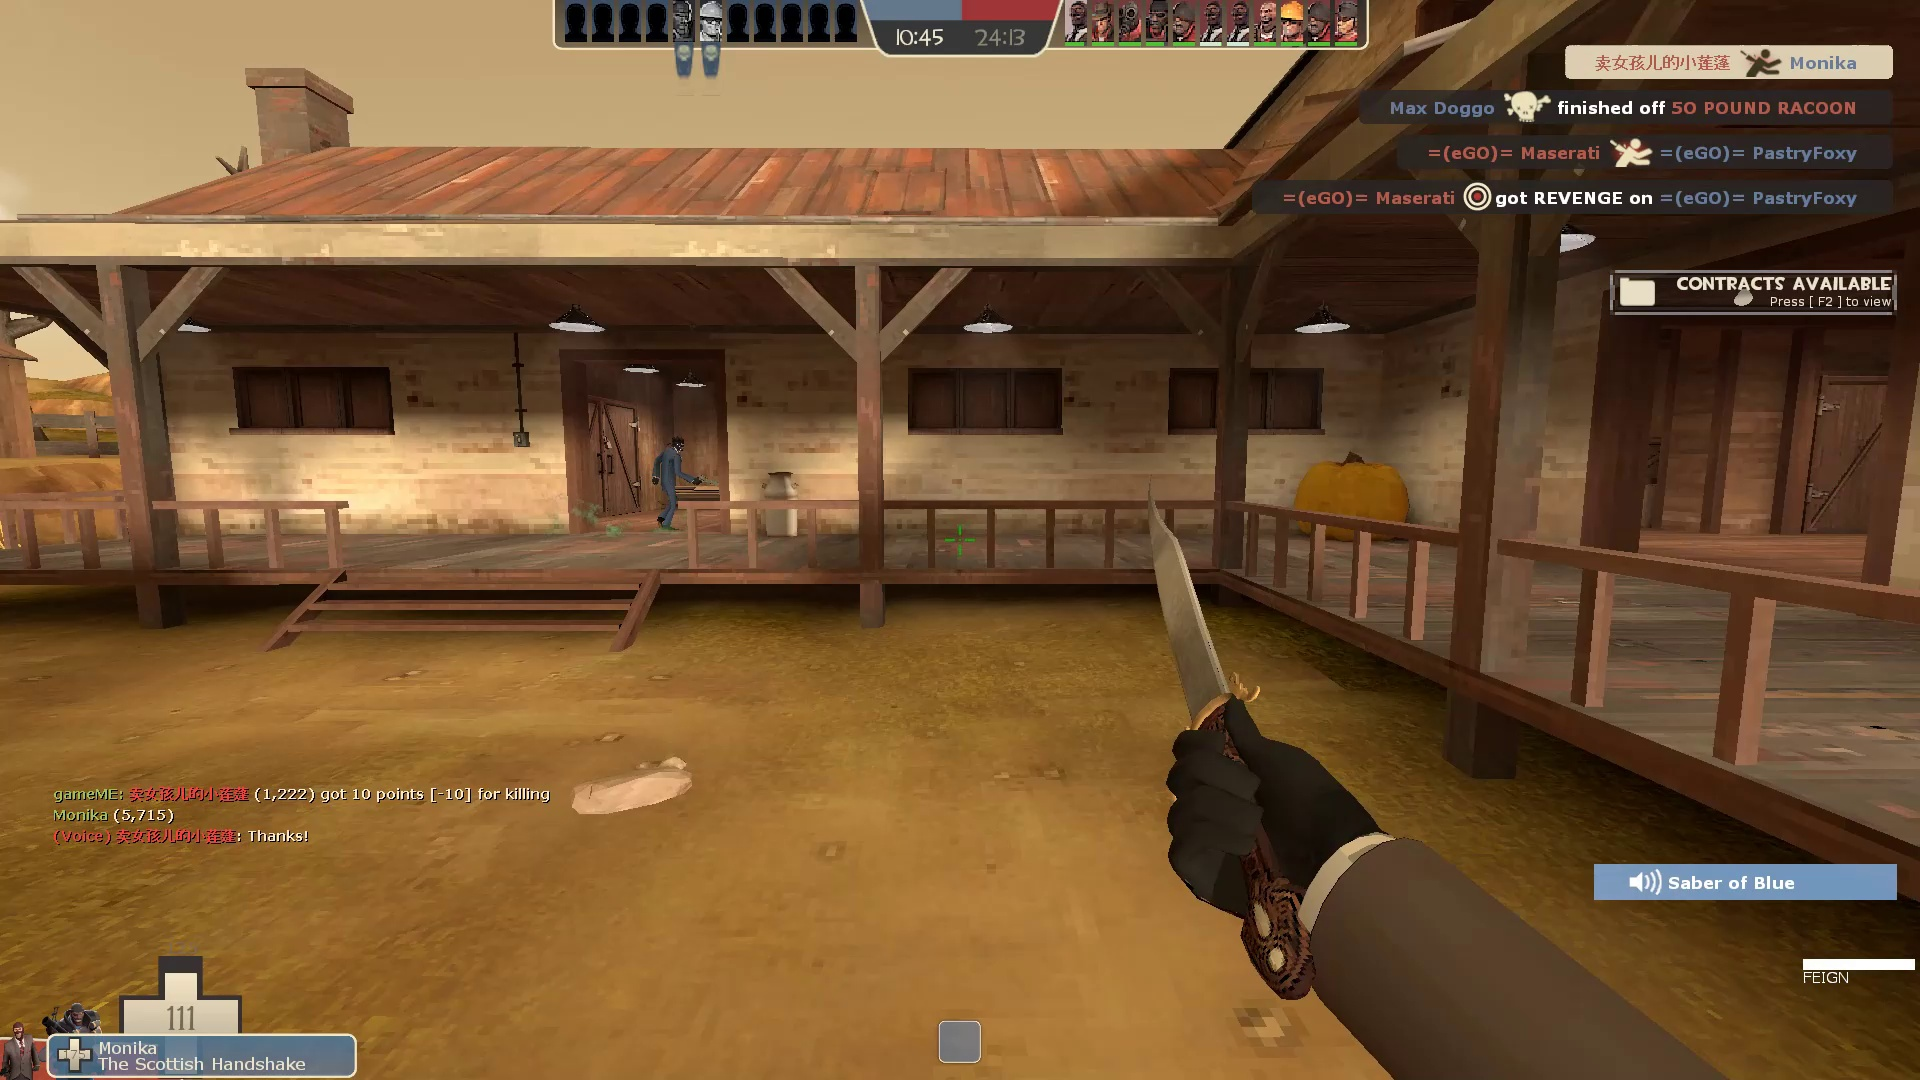blu_spy: (638, 431, 713, 541)
